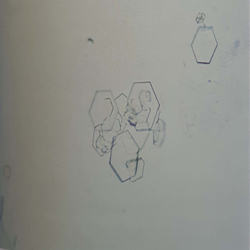Crystal: (178, 18, 222, 71), (122, 79, 165, 133), (108, 129, 144, 186), (85, 83, 120, 131), (89, 124, 117, 157), (151, 116, 170, 152)
